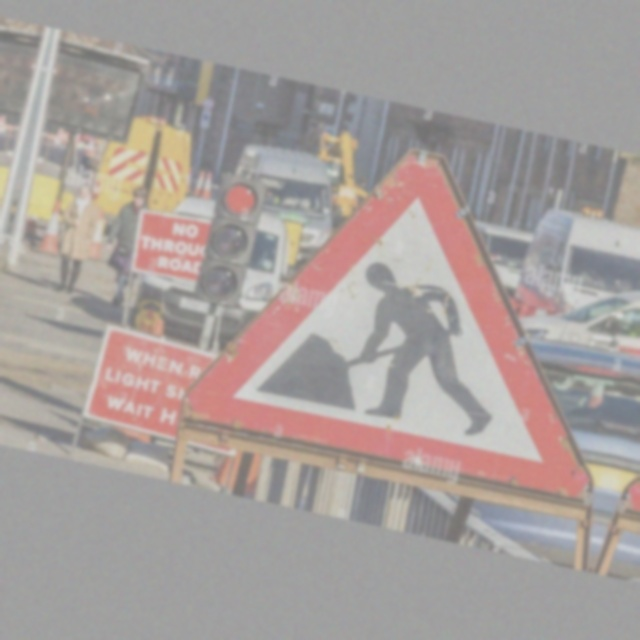Men_at_Work: (204, 129, 620, 504)
